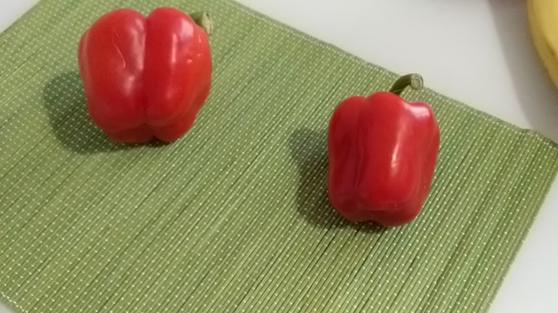pepper: (75, 7, 215, 149), (318, 76, 441, 231)
